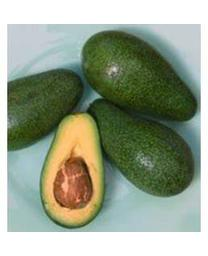avocado: (80, 29, 198, 123), (86, 98, 195, 198), (39, 111, 106, 229), (8, 68, 83, 151)
